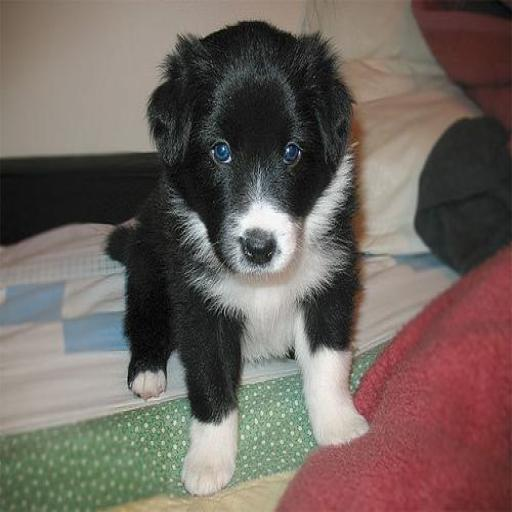dog_face: (158, 24, 345, 274)
